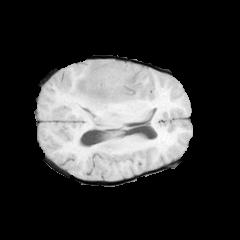glioma: (69, 66, 139, 115)
